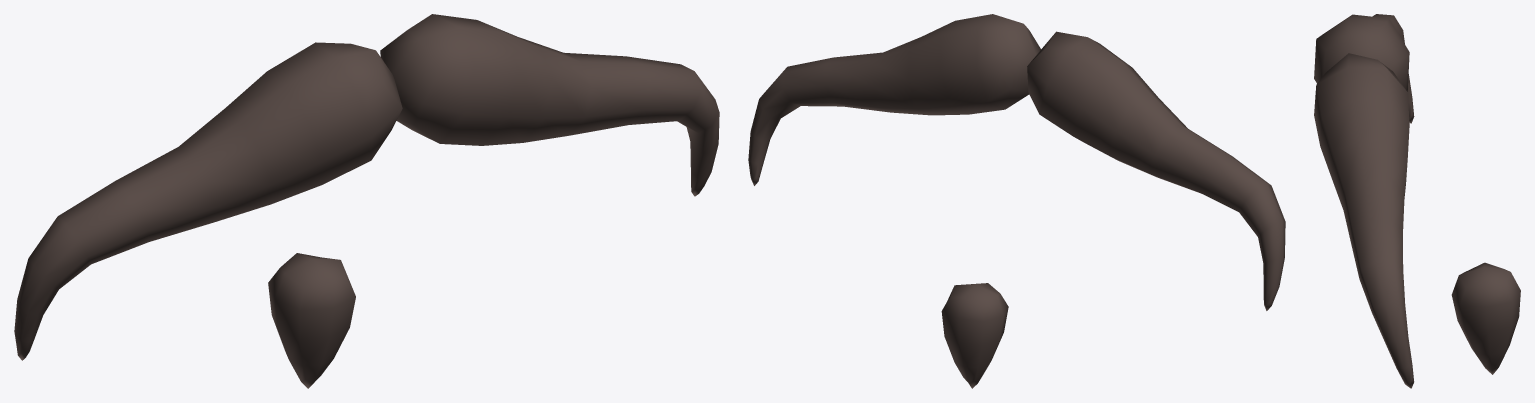
The model's file is Mustache_10.glb.
3 views of the same model, side by side, from view 1: azimuth 30°, elevation 25°; view 2: azimuth 150°, elevation 25°; view 3: azimuth 270°, elevation 25° (orthographic). The views are drawn at different scales.
Parts seen in each view (by area): view 1: Mustache_10; view 2: Mustache_10; view 3: Mustache_10.
Part boxes in pixels (bbox=[...]): Mustache_10: bbox=[14, 14, 719, 388]; Mustache_10: bbox=[748, 14, 1285, 388]; Mustache_10: bbox=[1314, 14, 1520, 388].
Size of the model in its own units: 0.3048 by 0.1722 by 0.0971.
1 material, 1 textured.
